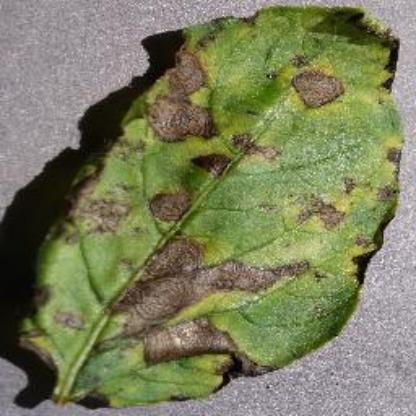Early-Blight: (17, 5, 414, 412)
